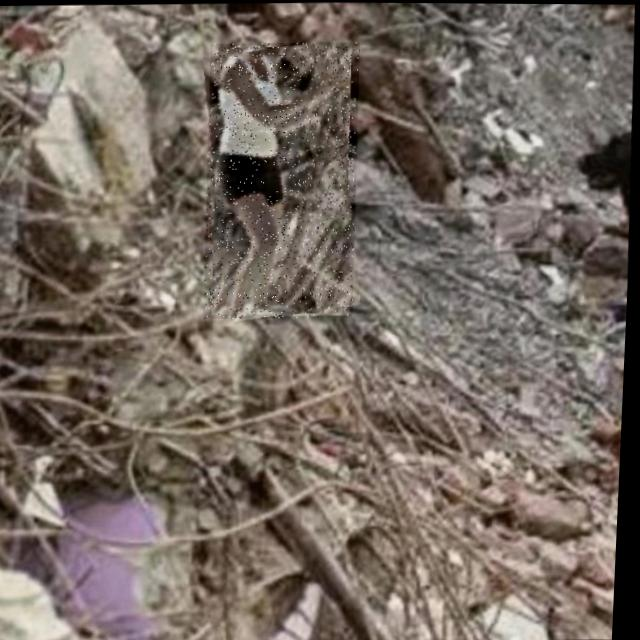Person in Rubble: (201, 40, 365, 319)
